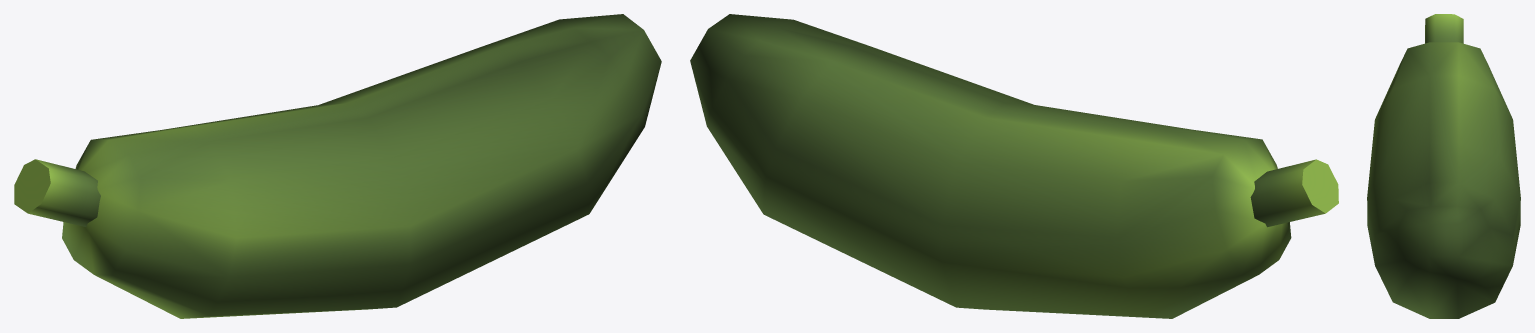
The model's file is cucumber_2.fbx.
The picture shows the model from 3 angles, left to right: view 1: azimuth 30°, elevation 25°; view 2: azimuth 150°, elevation 25°; view 3: azimuth 270°, elevation 25°; orthographic projection. The views are drawn at different scales.
Parts seen in each view (by area): view 1: cucumber_2; view 2: cucumber_2; view 3: cucumber_2.
Boxes of the visible parts, x1=… form: cucumber_2: x1=14, y1=14, x2=661, y2=318; cucumber_2: x1=690, y1=14, x2=1338, y2=318; cucumber_2: x1=1367, y1=14, x2=1520, y2=318.
Bounding box in the file's own units: 52.41 × 17.06 × 15.28.
